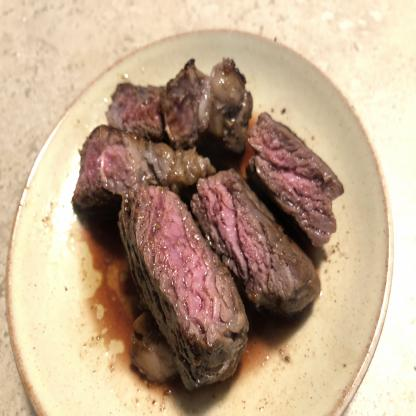Carne: (113, 185, 267, 377), (192, 164, 318, 321), (238, 116, 361, 238), (106, 51, 258, 147), (71, 135, 220, 232)
